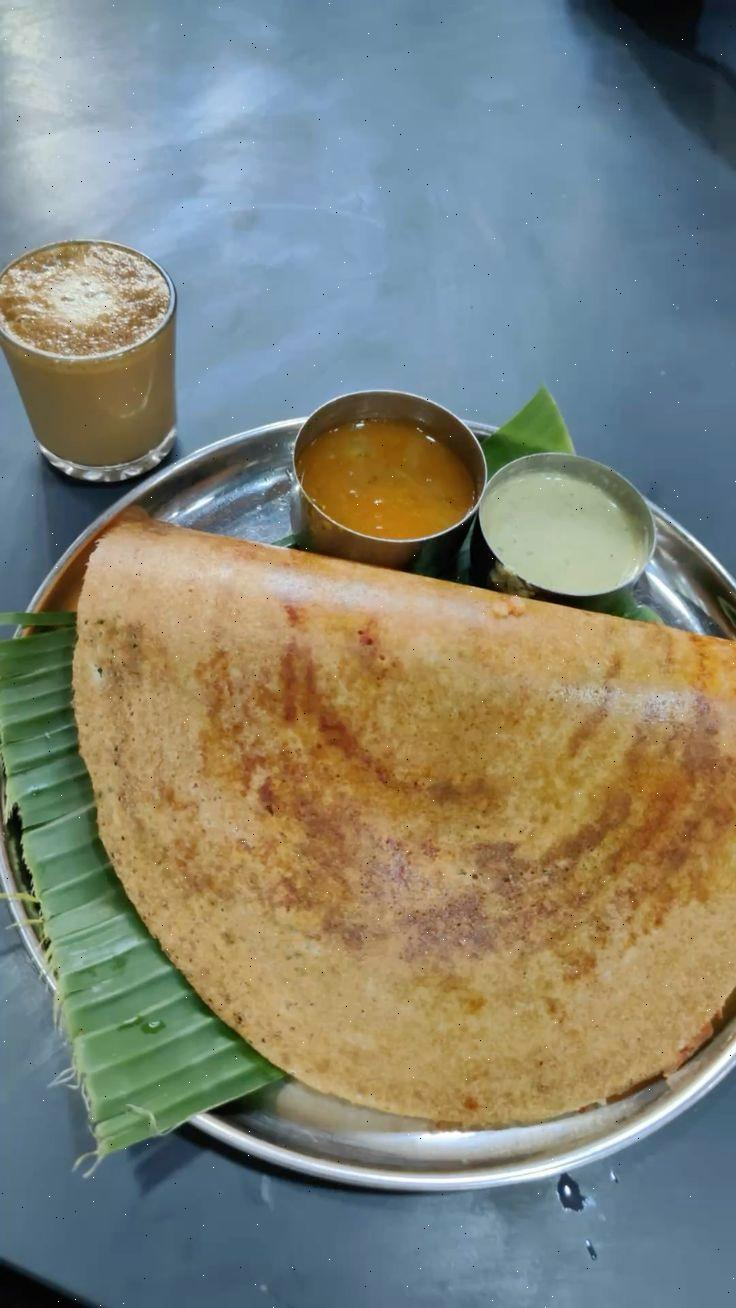dosa: (76, 558, 736, 1089)
